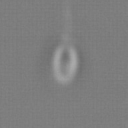normal: (55, 1, 77, 42)
